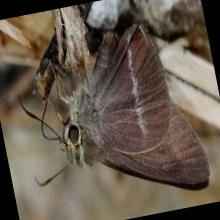butterfly: (64, 23, 210, 189)
